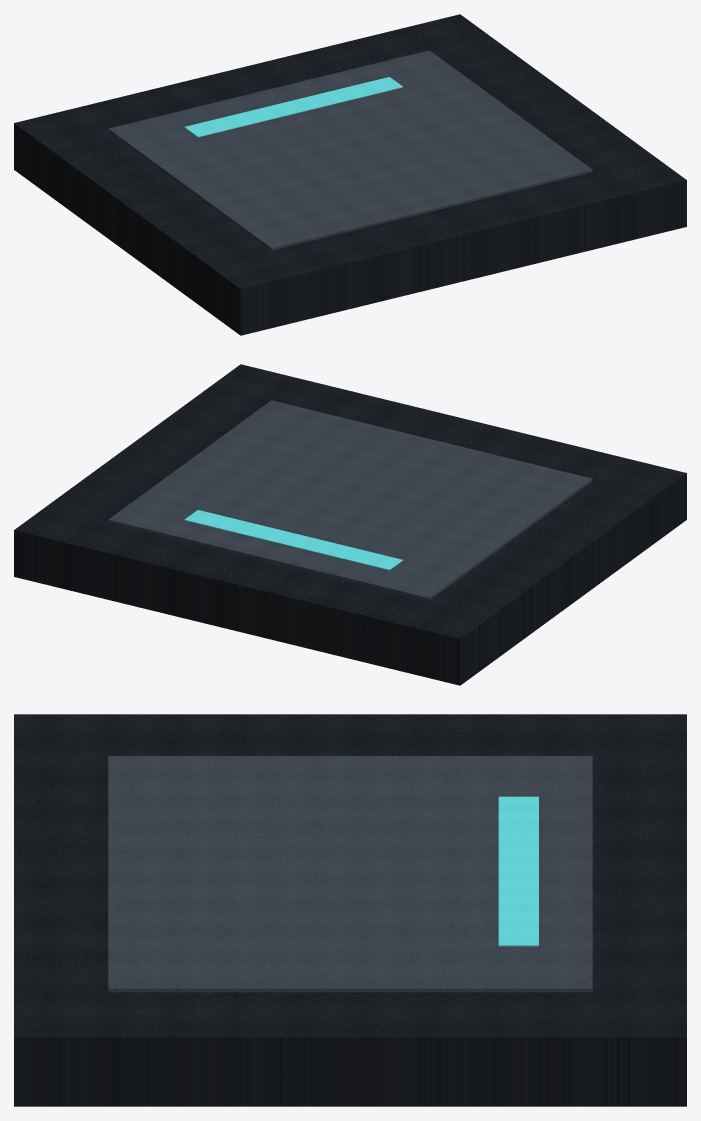
The picture shows the model from 3 angles, top to bottom: view 1: azimuth 30°, elevation 25°; view 2: azimuth 150°, elevation 25°; view 3: azimuth 270°, elevation 25°; orthographic projection. The views are drawn at different scales.
Parts seen in each view (by area): view 1: 000_Black_Epoxy__PSMAT__Black_Epoxy, 001_Silicon_Die__PSMAT__Silicon_Die, 002_Silkscreen_Cyan__PSMAT__Silkscreen_Cyan; view 2: 000_Black_Epoxy__PSMAT__Black_Epoxy, 001_Silicon_Die__PSMAT__Silicon_Die, 002_Silkscreen_Cyan__PSMAT__Silkscreen_Cyan; view 3: 000_Black_Epoxy__PSMAT__Black_Epoxy, 001_Silicon_Die__PSMAT__Silicon_Die, 002_Silkscreen_Cyan__PSMAT__Silkscreen_Cyan.
Part boxes in pixels (left/top/right/bottom): 000_Black_Epoxy__PSMAT__Black_Epoxy: left=14, top=14, right=686, bottom=335; 001_Silicon_Die__PSMAT__Silicon_Die: left=108, top=50, right=592, bottom=250; 002_Silkscreen_Cyan__PSMAT__Silkscreen_Cyan: left=184, top=77, right=402, bottom=137; 000_Black_Epoxy__PSMAT__Black_Epoxy: left=14, top=364, right=686, bottom=685; 001_Silicon_Die__PSMAT__Silicon_Die: left=108, top=400, right=592, bottom=600; 002_Silkscreen_Cyan__PSMAT__Silkscreen_Cyan: left=184, top=510, right=403, bottom=570; 000_Black_Epoxy__PSMAT__Black_Epoxy: left=14, top=714, right=686, bottom=1106; 001_Silicon_Die__PSMAT__Silicon_Die: left=108, top=756, right=592, bottom=992; 002_Silkscreen_Cyan__PSMAT__Silkscreen_Cyan: left=498, top=796, right=538, bottom=946.
Size of the model in its own units: 0.025 by 0.00325 by 0.022.
Materials: 4 (4 with a texture image).
